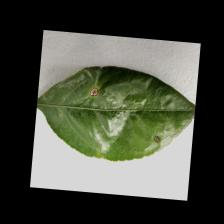canker: (85, 82, 164, 146)
